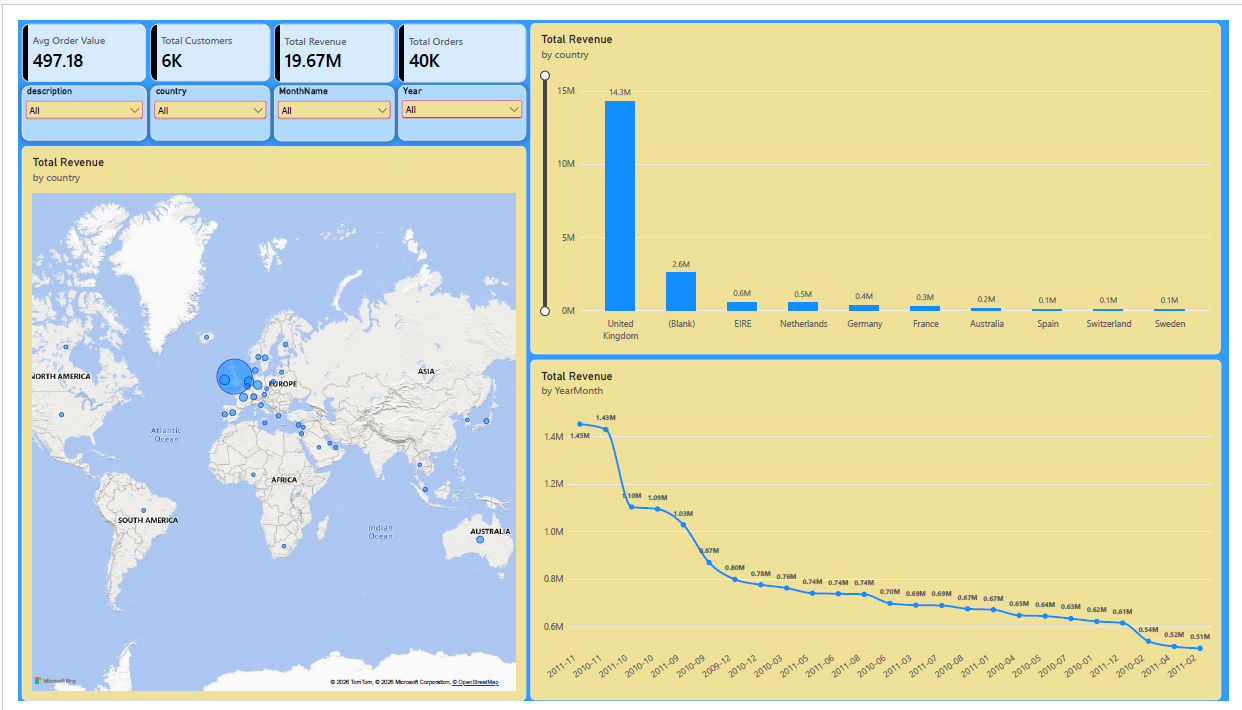

Layout of this report page (visuals, bound fields, positions):
{"tool":"powerbi","page":{"name":"Executive Overview","canvas":[1920,1080],"ordinal":0},"visuals":[{"type":"cardVisual","fields":{"Data":["powerbi_fact_sales.Total Customers"]},"box":[210,5.7,190,91.4],"z":0},{"type":"cardVisual","fields":{"Data":["powerbi_fact_sales.Total Orders"]},"box":[602.9,5.7,202.9,92.9],"z":1000},{"type":"cardVisual","fields":{"Data":["powerbi_fact_sales.Avg Order Value"]},"box":[5.7,5.7,197.1,92.1],"z":2000},{"type":"cardVisual","fields":{"Data":["powerbi_fact_sales.Total Revenue"]},"box":[405.7,5.7,191.4,92.9],"z":3000},{"type":"lineChart","fields":{"Category":["DateTable.YearMonth"],"Y":["powerbi_fact_sales.Total Revenue"]},"box":[813.1,539.3,1095.6,540],"z":4000},{"type":"clusteredColumnChart","fields":{"Category":["powerbi_dim_customers.country"],"Y":["powerbi_fact_sales.Total Revenue"]},"box":[813.1,4.9,1095.1,524.6],"z":5000},{"type":"map","fields":{"Category":["powerbi_dim_customers.country"],"Size":["powerbi_fact_sales.Total Revenue"]},"box":[5.6,200,800,879.6],"z":6000},{"type":"slicer","fields":{"Values":["DateTable.Year"]},"box":[602.9,102.9,202.9,87.9],"z":7000},{"type":"slicer","fields":{"Values":["powerbi_dim_customers.country"]},"box":[210,103.6,190,87.9],"z":8000},{"type":"slicer","fields":{"Values":["powerbi_dim_products.description"]},"box":[5.7,103.6,197.9,87.9],"z":10000},{"type":"slicer","fields":{"Values":["DateTable.MonthName"]},"box":[405.6,103.7,191.3,88.4],"z":11000}]}

Visuals, with their boxes in screenshot pixels (x1, y1, x2, y2), scaled from the page's 1920x1080 canvas onto the 1242x710 screenshot:
cardVisual - powerbi_fact_sales.Total Customers: 136/4/259/64
cardVisual - powerbi_fact_sales.Total Orders: 390/4/521/65
cardVisual - powerbi_fact_sales.Avg Order Value: 4/4/131/64
cardVisual - powerbi_fact_sales.Total Revenue: 262/4/386/65
lineChart - DateTable.YearMonth x powerbi_fact_sales.Total Revenue: 526/355/1235/709
clusteredColumnChart - powerbi_dim_customers.country x powerbi_fact_sales.Total Revenue: 526/3/1234/348
map - powerbi_dim_customers.country x powerbi_fact_sales.Total Revenue: 4/131/521/709
slicer - DateTable.Year: 390/68/521/125
slicer - powerbi_dim_customers.country: 136/68/259/126
slicer - powerbi_dim_products.description: 4/68/132/126
slicer - DateTable.MonthName: 262/68/386/126
